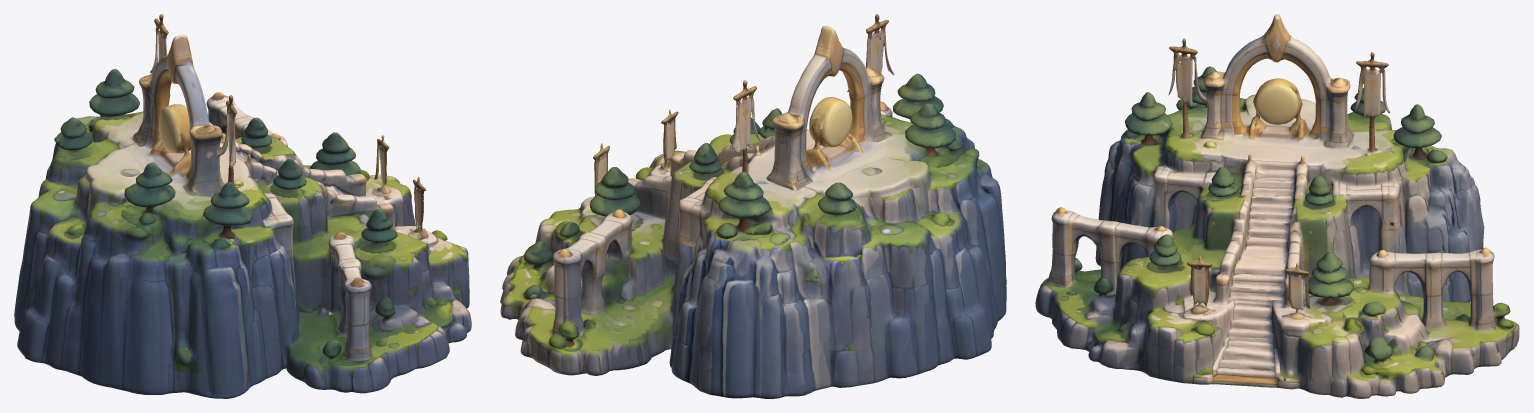
Rendered from dawn.glb.
The picture shows the model from 3 angles, left to right: view 1: azimuth 30°, elevation 25°; view 2: azimuth 150°, elevation 25°; view 3: azimuth 270°, elevation 25°; orthographic projection. The views are drawn at different scales.
Parts seen in each view (by area): view 1: tripo_node_9c5e8a20; view 2: tripo_node_9c5e8a20; view 3: tripo_node_9c5e8a20.
Boxes of the visible parts, <box> form: tripo_node_9c5e8a20: <box>14,14,471,398</box>; tripo_node_9c5e8a20: <box>500,14,1006,398</box>; tripo_node_9c5e8a20: <box>1035,14,1519,398</box>.
Bounding box in the file's own units: 0.9329 × 0.5963 × 0.9744.
Materials: 1 (1 with a texture image).
